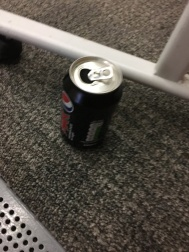can_black: (58, 47, 130, 161)
